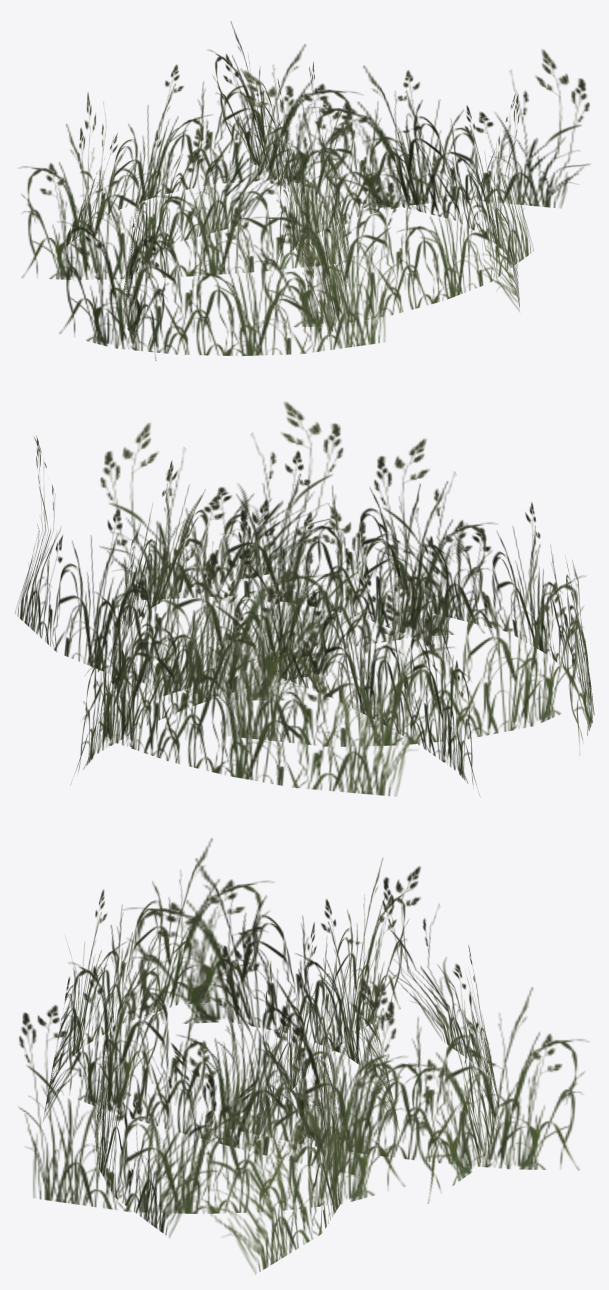
The model's file is grass_b.glb.
3 renders of one model, top to bottom at view 1: azimuth 30°, elevation 25°; view 2: azimuth 150°, elevation 25°; view 3: azimuth 270°, elevation 25°, orthographic. The views are drawn at different scales.
Visible parts, largest first — view 1: Grass_Reeds_LOD0_GrassBase_0.001; view 2: Grass_Reeds_LOD0_GrassBase_0.001; view 3: Grass_Reeds_LOD0_GrassBase_0.001.
Part boxes in pixels (x1,y1,x2,y2): Grass_Reeds_LOD0_GrassBase_0.001: (19,21,590,360); Grass_Reeds_LOD0_GrassBase_0.001: (15,402,594,796); Grass_Reeds_LOD0_GrassBase_0.001: (19,838,588,1274).
Size of the model in its own units: 1.67 by 0.55 by 1.43.
Materials: 1 (1 with a texture image).
